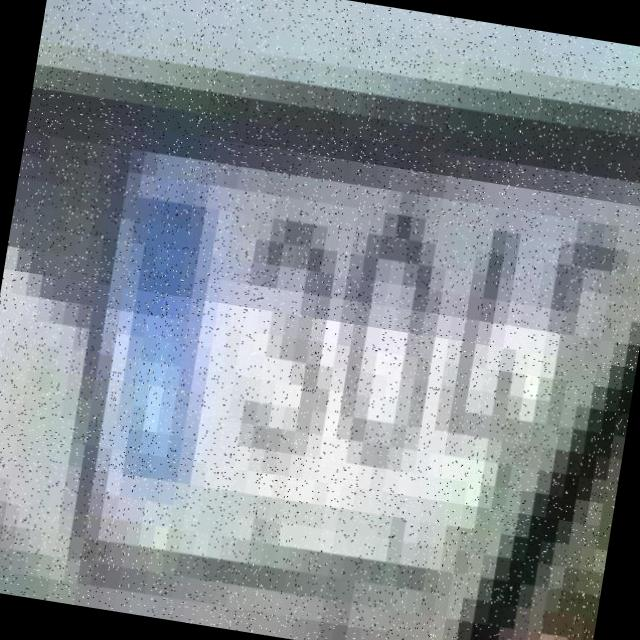LicensePlate: (25, 68, 634, 640)
